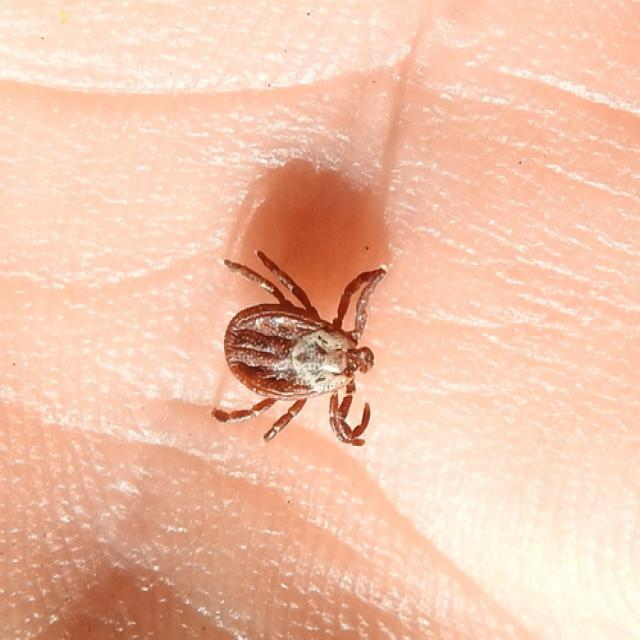Dermacentor Reticulatus-F: (211, 249, 387, 446)
